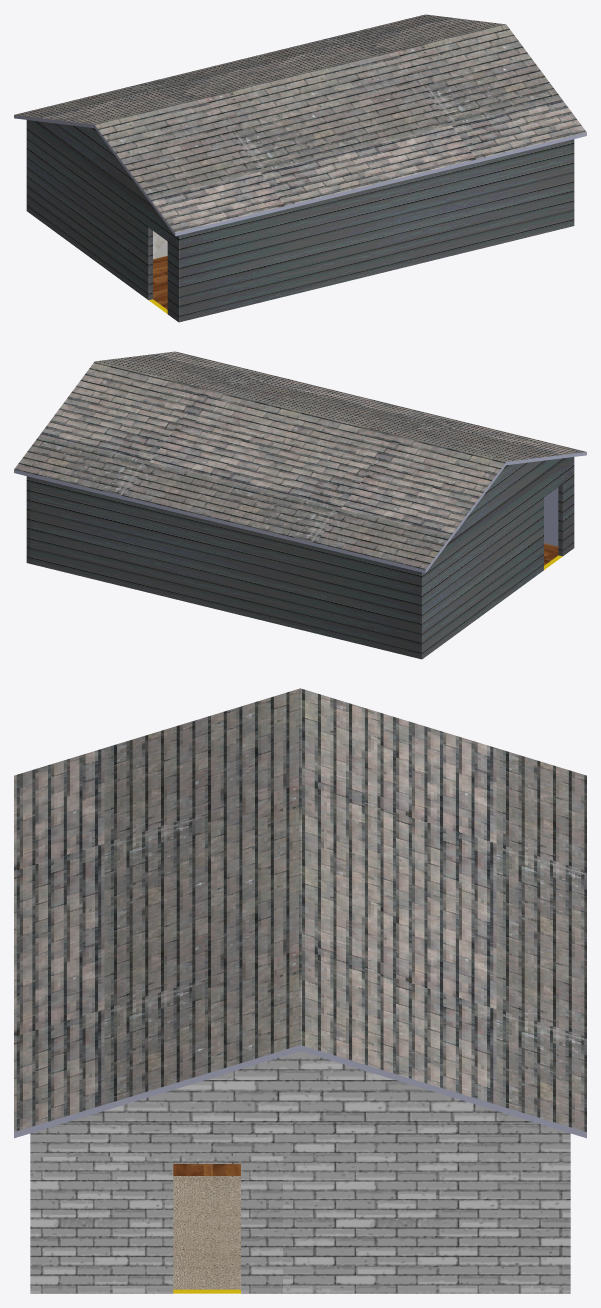
The model's file is HouseAdjusted.fbx.
3 views of the same model, one above another, from view 1: azimuth 30°, elevation 25°; view 2: azimuth 150°, elevation 25°; view 3: azimuth 270°, elevation 25° (orthographic). The views are drawn at different scales.
Parts seen in each view (by area): view 1: building_062; view 2: building_062; view 3: building_062.
Part boxes in pixels (<box>): building_062: <box>14,14,586,322</box>; building_062: <box>14,351,586,659</box>; building_062: <box>14,688,586,1293</box>.
Bounding box in the file's own units: 1249 × 417 × 848.
